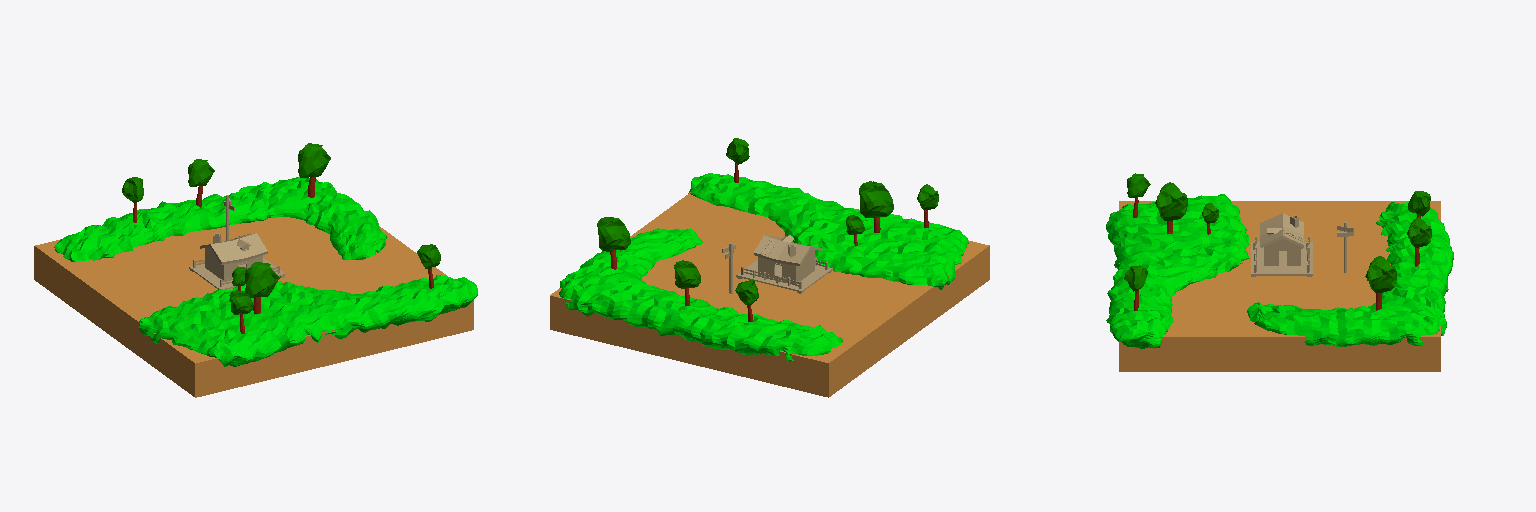
The model's file is Field.obj.
3 renders of one model, left to right at view 1: azimuth 30°, elevation 25°; view 2: azimuth 150°, elevation 25°; view 3: azimuth 270°, elevation 25°, orthographic.
Visible parts, largest first — view 1: Box065, Object005, Object001, Box069, Box070, Box071, Box001; view 2: Box065, Object005, Box069, Object001, Box070, Box002, Box001, Box071; view 3: Box065, Object005, Box002, Object001, Box069, Box070, Box071.
Part boxes in pixels (x1,y1,x2,y2): Box065: (34, 217, 473, 397); Object005: (54, 176, 477, 366); Object001: (200, 233, 267, 264); Box069: (245, 262, 279, 297); Box070: (298, 143, 330, 177); Box071: (188, 159, 214, 186); Box001: (207, 247, 259, 279); Box065: (550, 192, 989, 397); Object005: (559, 173, 968, 361); Box069: (859, 181, 893, 217); Object001: (754, 235, 821, 265); Box070: (597, 217, 630, 251); Box002: (736, 260, 832, 291); Box001: (761, 249, 812, 282); Box071: (674, 260, 700, 288); Box065: (1119, 201, 1440, 371); Object005: (1106, 194, 1453, 348); Box002: (1251, 242, 1312, 275); Object001: (1260, 213, 1303, 247); Box069: (1155, 182, 1187, 220); Box070: (1365, 256, 1396, 292); Box071: (1407, 217, 1431, 247).
Size of the model in its own units: 260 by 81.92 by 267.